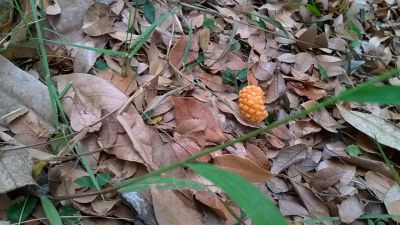eggs: (233, 83, 271, 124)
